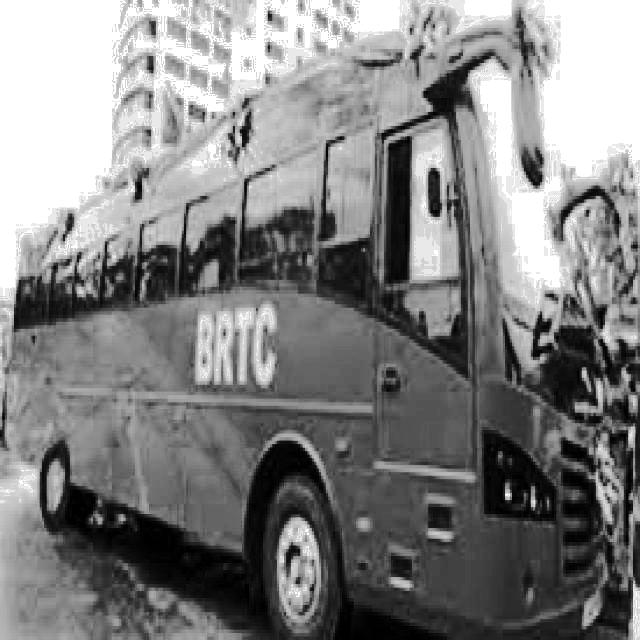Bus: (8, 0, 640, 638)
